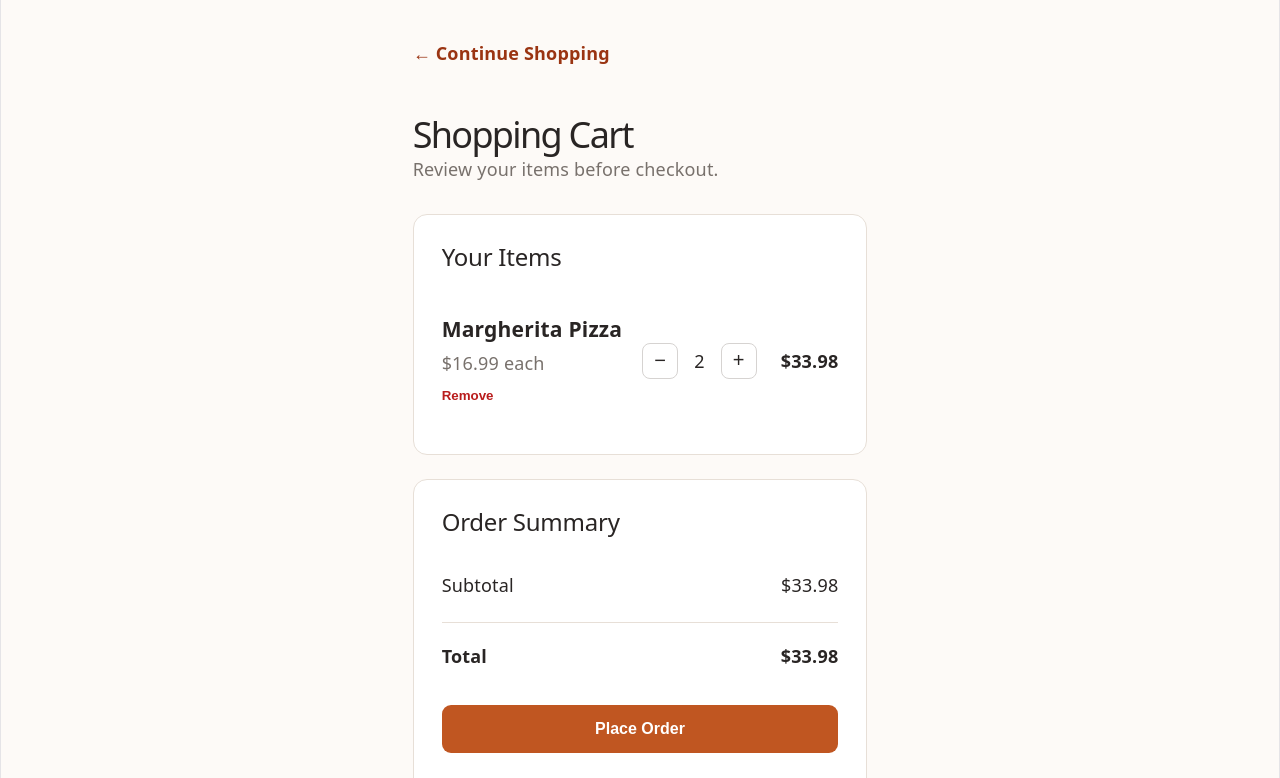
Test: Checkout › does not assume checkout failed when the response has no order ID
Expected: the heading "Margherita Pizza" is shown, [442,316,622,342]
Click the button "Place Order". click: coordinates (640, 729)
box: [442,705,838,753]
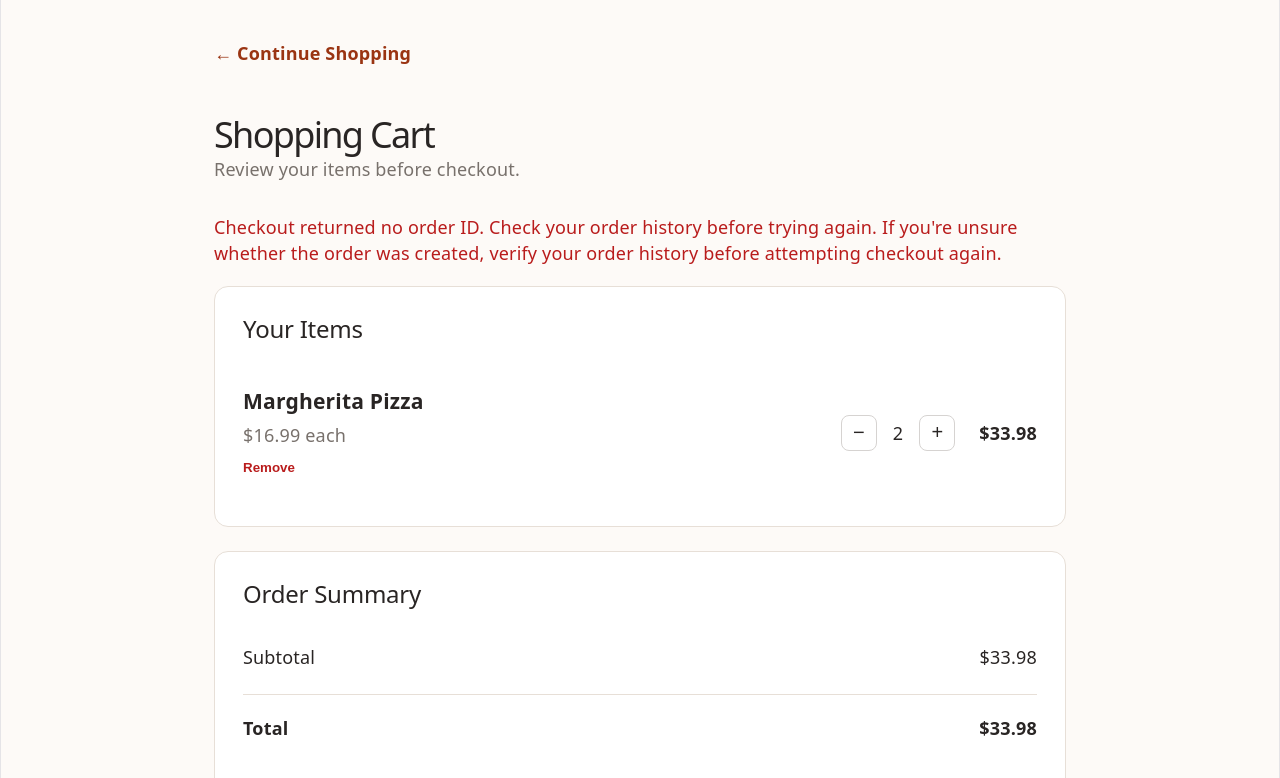
Result: the message shows "Checkout returned no order ID." at [214,215,1018,265]
Result: the message shows "Check your order history before trying again." at [214,215,1018,265]
